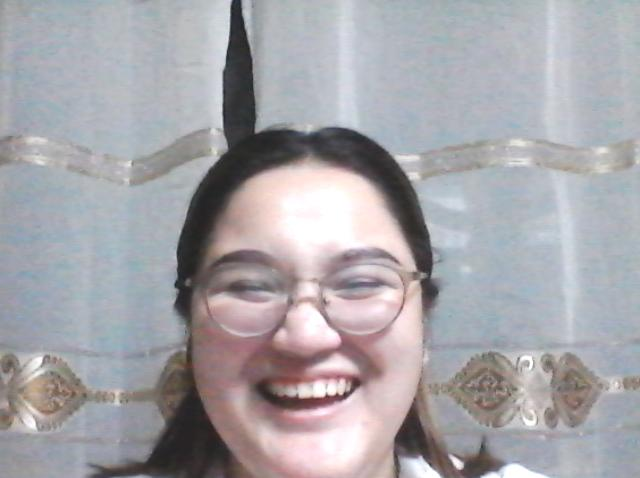senang: (166, 152, 424, 478)
